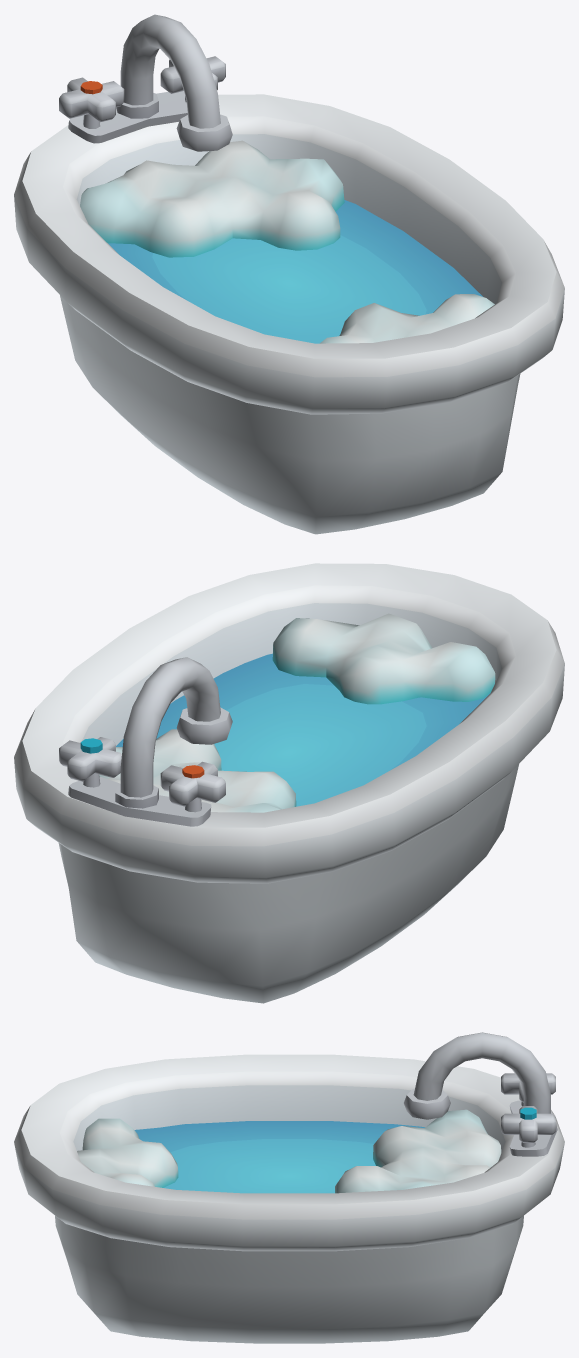
File: bath.glb
3 views of the same model, one above another, from view 1: azimuth 30°, elevation 25°; view 2: azimuth 150°, elevation 25°; view 3: azimuth 270°, elevation 25° (orthographic). The views are drawn at different scales.
Visible parts, largest first — view 1: bath, bath_water; view 2: bath, bath_water; view 3: bath, bath_water.
Part boxes in pixels (<box>): bath: <box>14,14,564,534</box>; bath_water: <box>80,140,494,343</box>; bath: <box>14,563,564,1003</box>; bath_water: <box>99,613,495,812</box>; bath: <box>14,1032,564,1343</box>; bath_water: <box>77,1109,501,1193</box>.
Bounding box in the file's own units: 2 × 1.61 × 3.
Materials: 1 (1 with a texture image).
